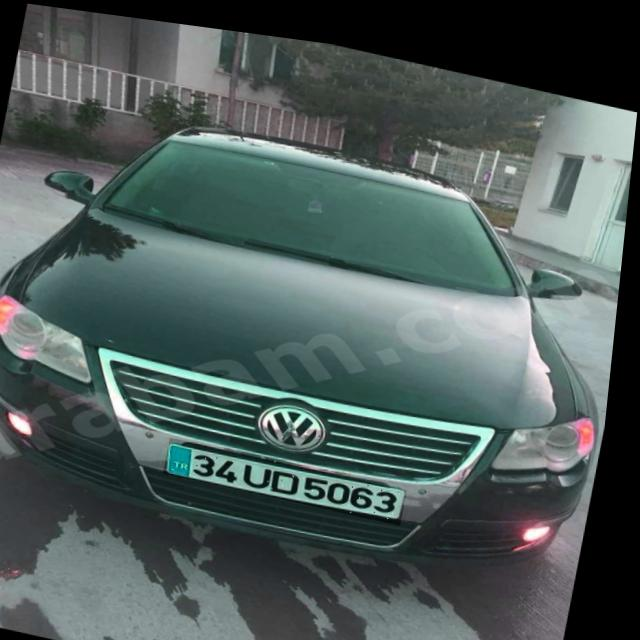license_plate: (171, 431, 418, 513)
